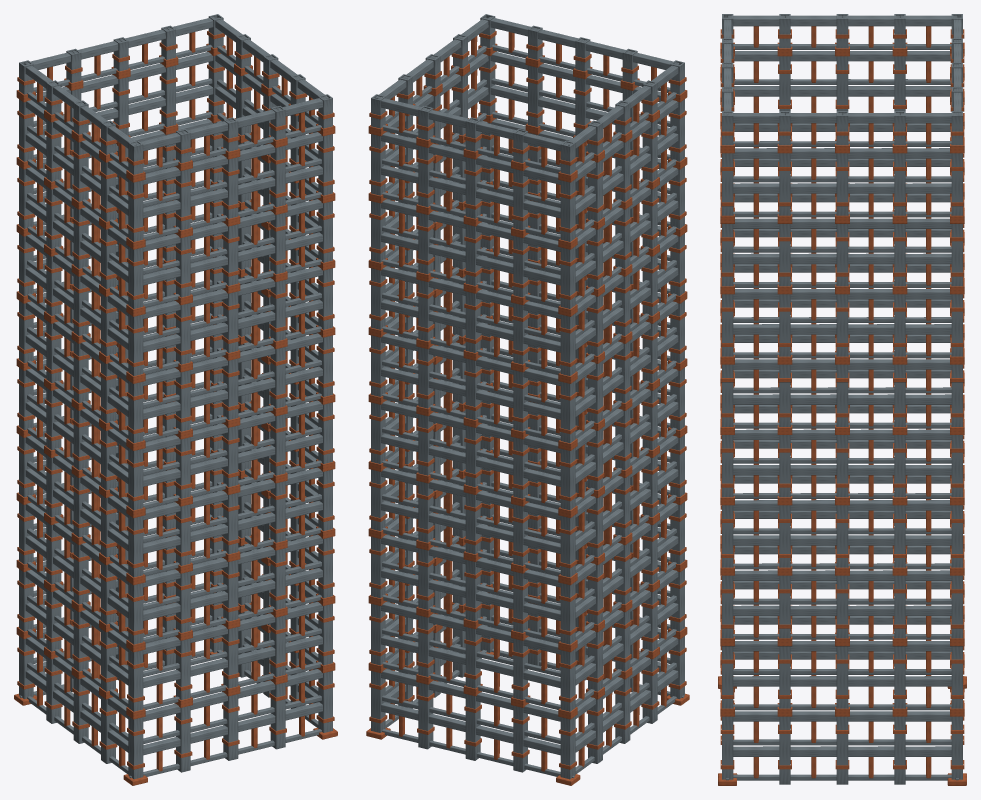
3 views of the same model, side by side, from view 1: azimuth 30°, elevation 25°; view 2: azimuth 150°, elevation 25°; view 3: azimuth 270°, elevation 25° (orthographic). The views are drawn at different scales.
Parts seen in each view (by area): view 1: Tier 0 side 0 post 0, Tier 5 side 0 post 0, Tier 7 side 0 post 0, Tier 2 side 0 post 0, Tier 3 side 0 post 0, Tier 4 side 0 post 0, Tier 8 side 0 post 0, Tier 1 side 0 post 0, Tier 6 side 0 post 0, Tier 0 side 0 post 2, Tier 0 side 0 post 3, Tier 0 side 0 post 1 (+71 smaller); view 2: Tier 0 side 3 post 0, Tier 5 side 3 post 0, Tier 7 side 3 post 0, Tier 3 side 3 post 0, Tier 8 side 3 post 0, Tier 1 side 3 post 0, Tier 2 side 3 post 0, Tier 4 side 3 post 0, Tier 6 side 3 post 0, Tier 0 side 2 post 2, Tier 0 side 2 post 1, Tier 0 side 2 post 3 (+71 smaller); view 3: Tier 0 side 1 post 2, Tier 2 side 1 post 2, Tier 0 side 1 post 1, Tier 0 side 1 post 3, Tier 4 side 1 post 2, Tier 7 side 1 post 2, Tier 1 side 1 post 2, Tier 6 side 1 post 2, Tier 8 side 1 post 2, Tier 5 side 1 post 2, Tier 3 side 1 post 2, Tier 2 side 1 post 1 (+124 smaller).
Boxes of the visible parts, x1,y1,x2,y2 form: Tier 0 side 0 post 0: (128, 716, 143, 779); Tier 5 side 0 post 0: (128, 380, 143, 443); Tier 7 side 0 post 0: (128, 246, 143, 308); Tier 2 side 0 post 0: (128, 582, 143, 644); Tier 3 side 0 post 0: (128, 515, 143, 577); Tier 4 side 0 post 0: (128, 448, 143, 510); Tier 8 side 0 post 0: (128, 179, 143, 241); Tier 1 side 0 post 0: (128, 649, 143, 711); Tier 6 side 0 post 0: (128, 313, 143, 375); Tier 0 side 0 post 2: (223, 694, 238, 760); Tier 0 side 0 post 3: (270, 682, 285, 749); Tier 0 side 0 post 1: (176, 705, 190, 772); Tier 0 side 3 post 0: (560, 716, 575, 779); Tier 5 side 3 post 0: (560, 380, 575, 443); Tier 7 side 3 post 0: (560, 246, 575, 308); Tier 3 side 3 post 0: (560, 515, 575, 577); Tier 8 side 3 post 0: (560, 179, 575, 241); Tier 1 side 3 post 0: (560, 649, 575, 711); Tier 2 side 3 post 0: (560, 582, 575, 644); Tier 4 side 3 post 0: (560, 448, 575, 510); Tier 6 side 3 post 0: (560, 313, 575, 375); Tier 0 side 2 post 2: (465, 694, 480, 760); Tier 0 side 2 post 1: (418, 682, 433, 749); Tier 0 side 2 post 3: (513, 705, 527, 772); Tier 0 side 1 post 2: (836, 716, 848, 784); Tier 2 side 1 post 2: (836, 575, 848, 638); Tier 0 side 1 post 1: (779, 716, 790, 784); Tier 0 side 1 post 3: (894, 716, 905, 784); Tier 4 side 1 post 2: (836, 435, 848, 497); Tier 7 side 1 post 2: (836, 224, 848, 286); Tier 1 side 1 post 2: (836, 646, 848, 708); Tier 6 side 1 post 2: (836, 294, 848, 356); Tier 8 side 1 post 2: (836, 153, 848, 215); Tier 5 side 1 post 2: (836, 364, 848, 426); Tier 3 side 1 post 2: (836, 505, 848, 567); Tier 2 side 1 post 1: (779, 575, 790, 638).
Size of the model in its own units: 1.95 by 5.78 by 1.95.
2 materials, 2 textured.
